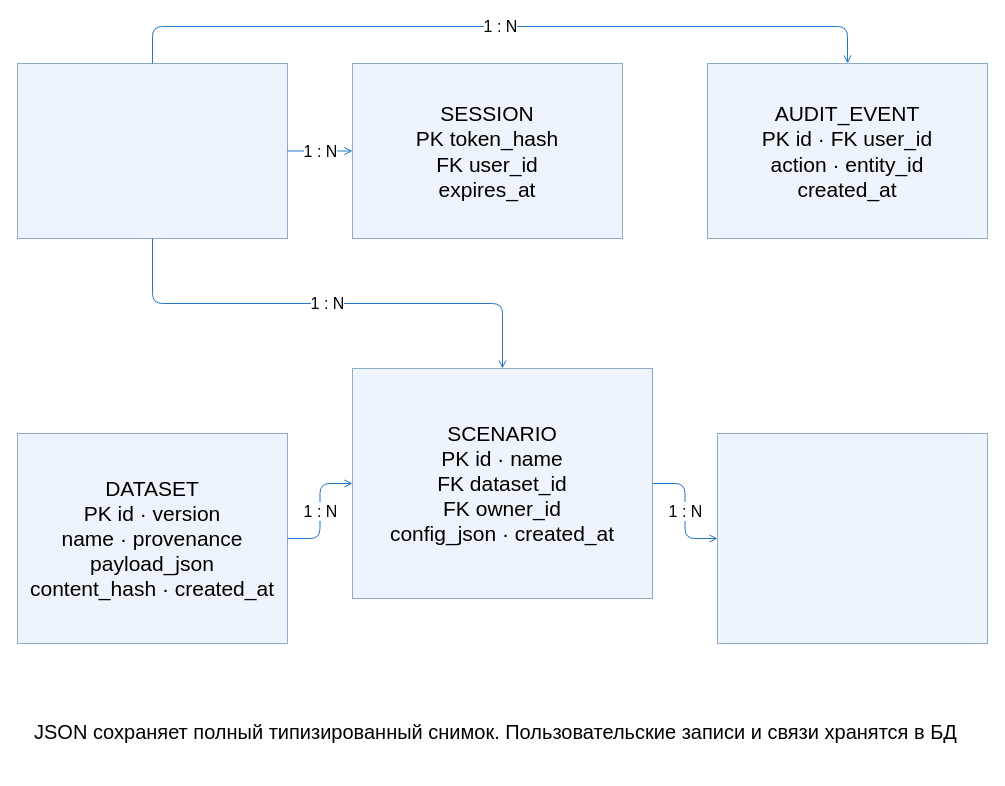
Image size: 1005x786. Some labels were removed from this diagram. The box of each missing label's shape, as (x1, y1, x2, y2) in pixels:
RUN PK id · FK scenario_id engine_version · seed summary_json created_at: (716, 432, 988, 644)
USER PK id · UK login name · role password_hash · salt: (16, 62, 288, 238)
